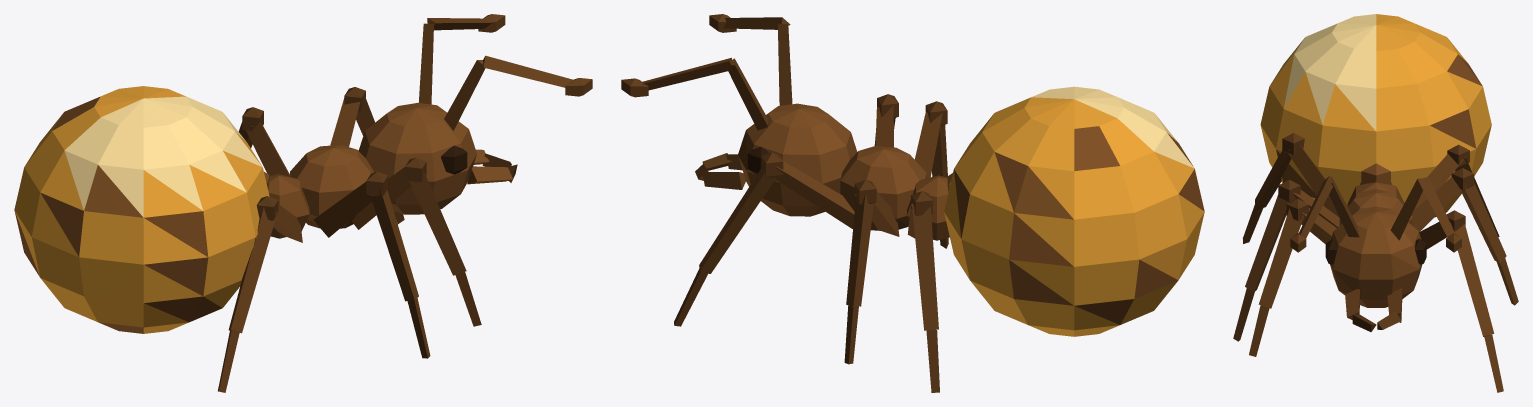
The model's file is ants-replete.glb.
3 views of the same model, side by side, from view 1: azimuth 30°, elevation 25°; view 2: azimuth 150°, elevation 25°; view 3: azimuth 270°, elevation 25° (orthographic). The views are drawn at different scales.
Bounding box in the file's own units: 13.83 × 6.5 × 7.4.
